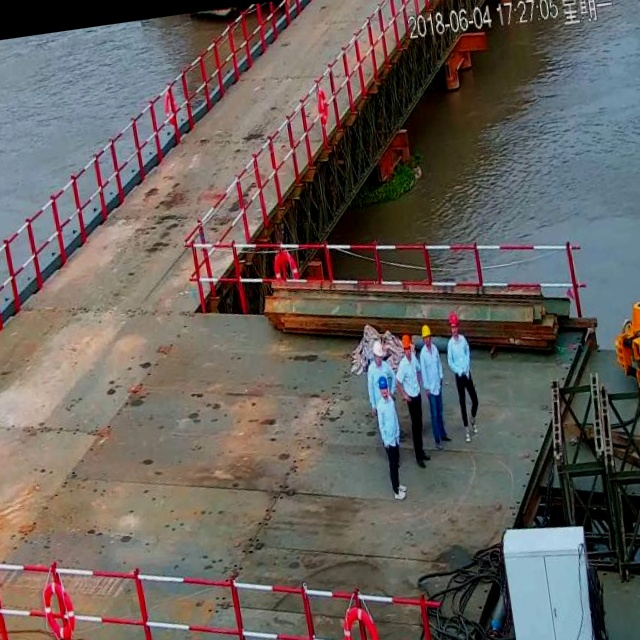Con_Casco: (377, 375, 390, 401), (401, 333, 414, 358), (372, 341, 385, 364), (448, 312, 460, 336), (420, 324, 433, 345)
